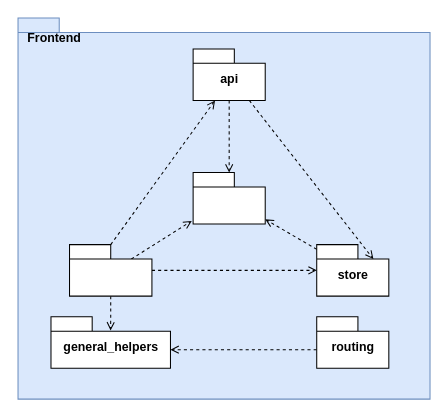
The diagram is 448 pixels wide and 417 high, and some of its shapes have lost their labels. The centre of each missing label's shape, as x and y in pixels:
"components" goes at [110,270].
"data" goes at [228,197].
